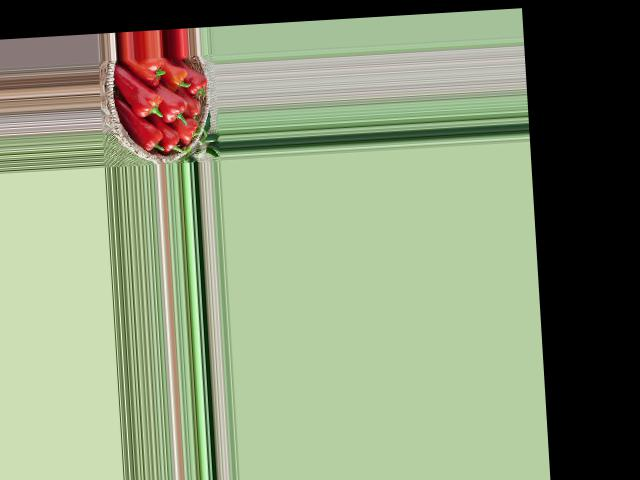bell_pepper: (158, 125, 184, 157)
